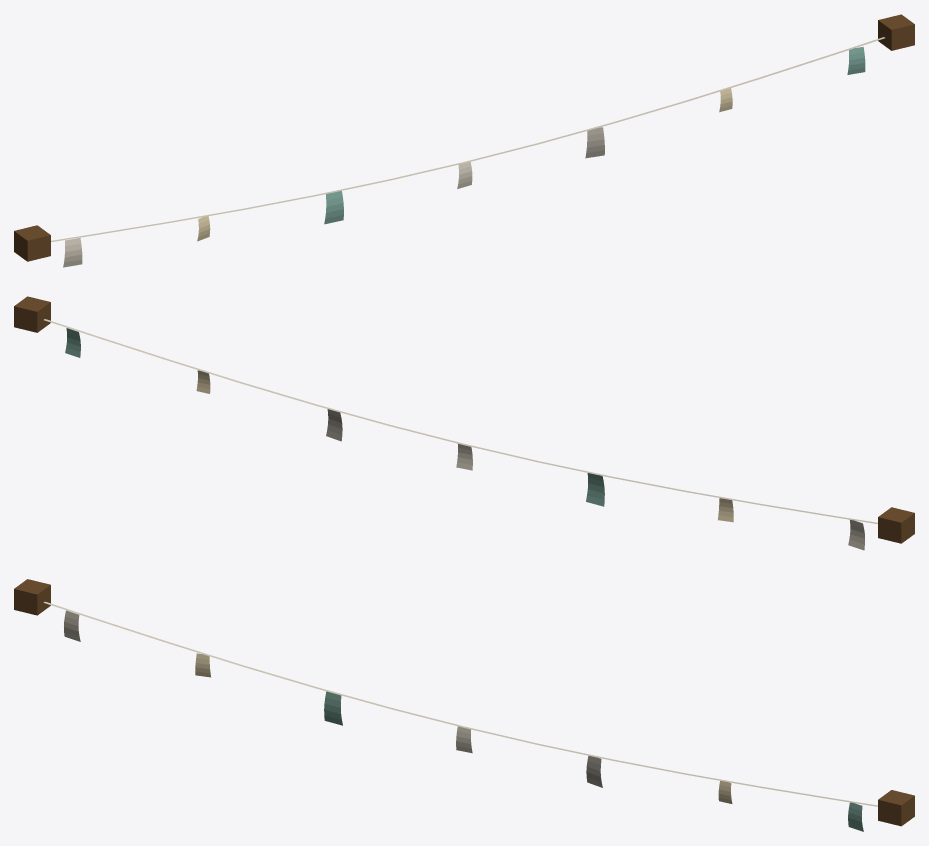
The model's file is env_laundry_line.obj.
The picture shows the model from 3 angles, top to bottom: view 1: azimuth 30°, elevation 25°; view 2: azimuth 150°, elevation 25°; view 3: azimuth 330°, elevation 25°; orthographic projection.
Parts seen in each view (by area): view 1: LaundryLine; view 2: LaundryLine; view 3: LaundryLine.
Part boxes in pixels (x1=…): LaundryLine: x1=14, y1=14, x2=914, y2=267; LaundryLine: x1=14, y1=296, x2=914, y2=550; LaundryLine: x1=14, y1=579, x2=914, y2=831.
Size of the model in its own units: 15.92 by 1.08 by 0.42.
